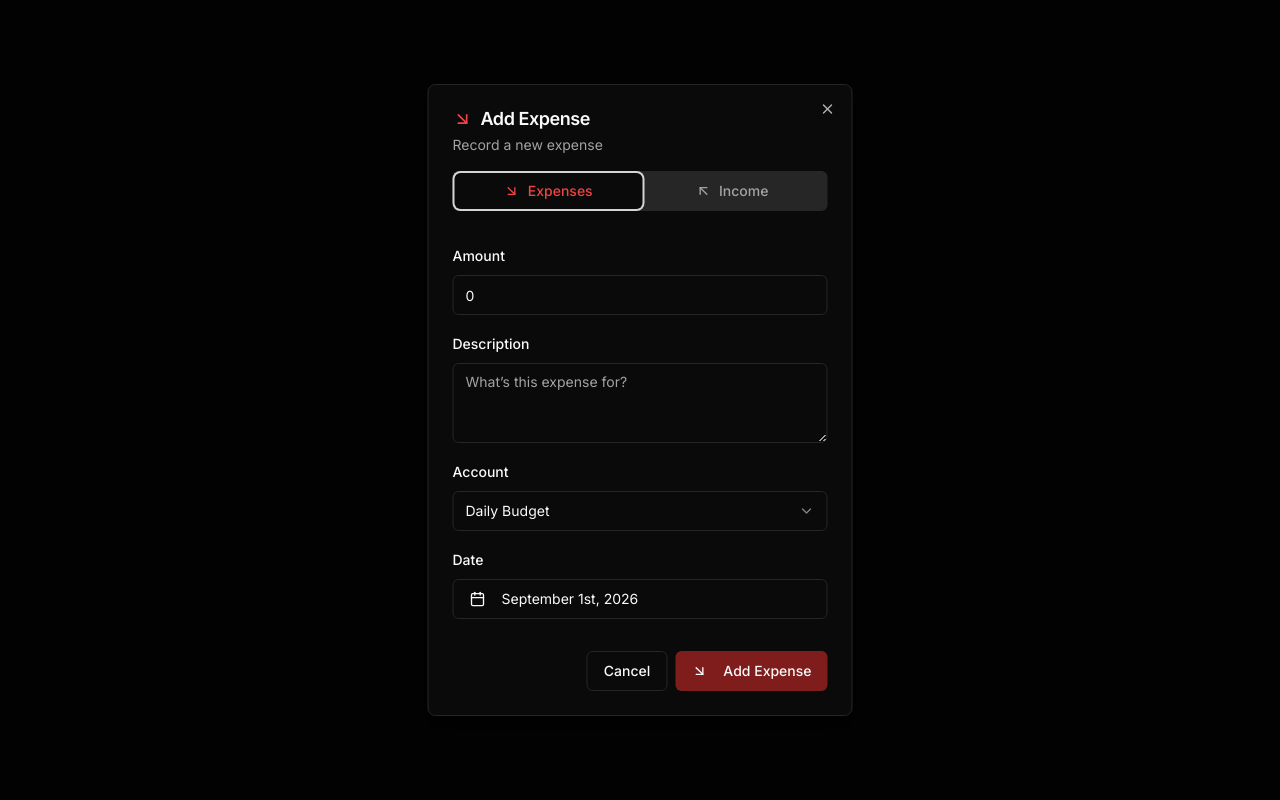
TransactionModal account selector › shows each account balance next to its name in the dropdown
What coordinates should you click on to do the following:
click the dropdown
I would click on:
 (507, 510)
Its box is [452,491,828,531].
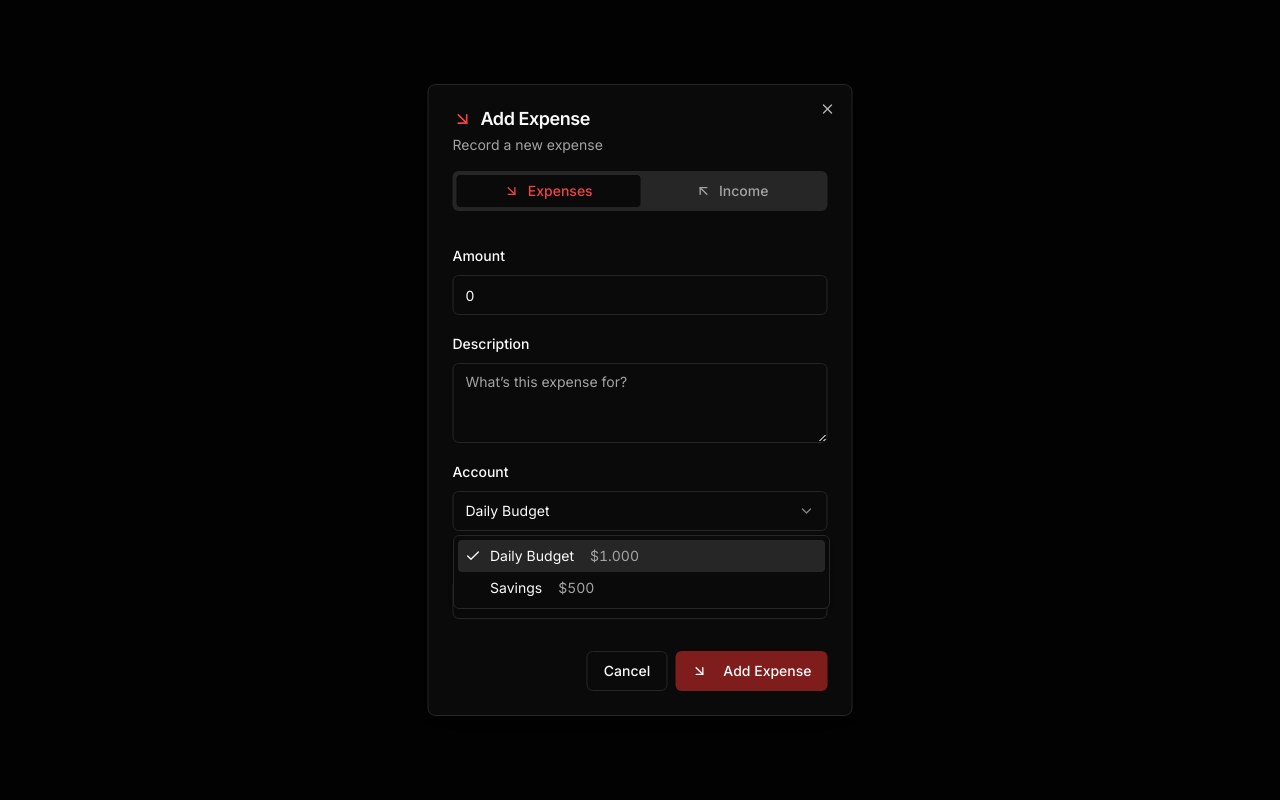
Result: the option "Daily Budget $1.000" is shown at [458,540,825,572]
Result: the option "Savings $500" is shown at [490,579,594,596]
